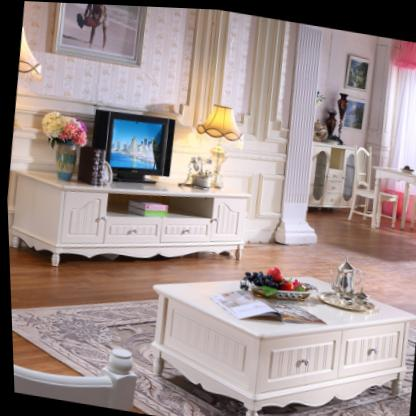TV stand: (4, 150, 256, 291)
